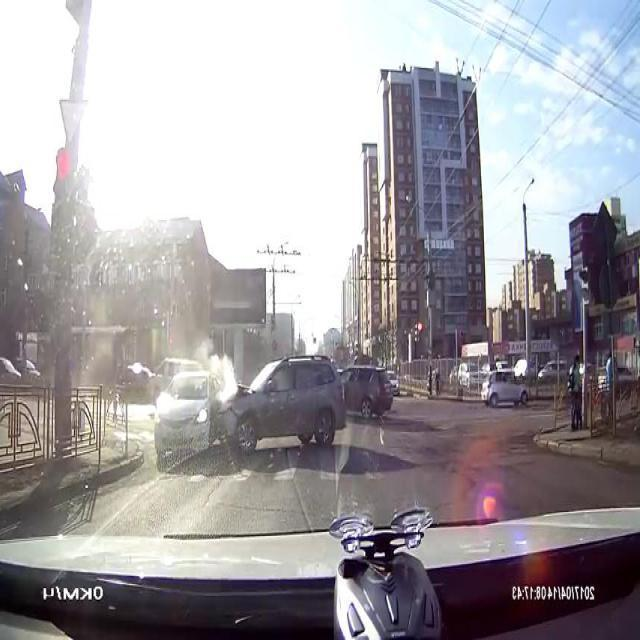multiple_accident: (176, 359, 259, 467)
